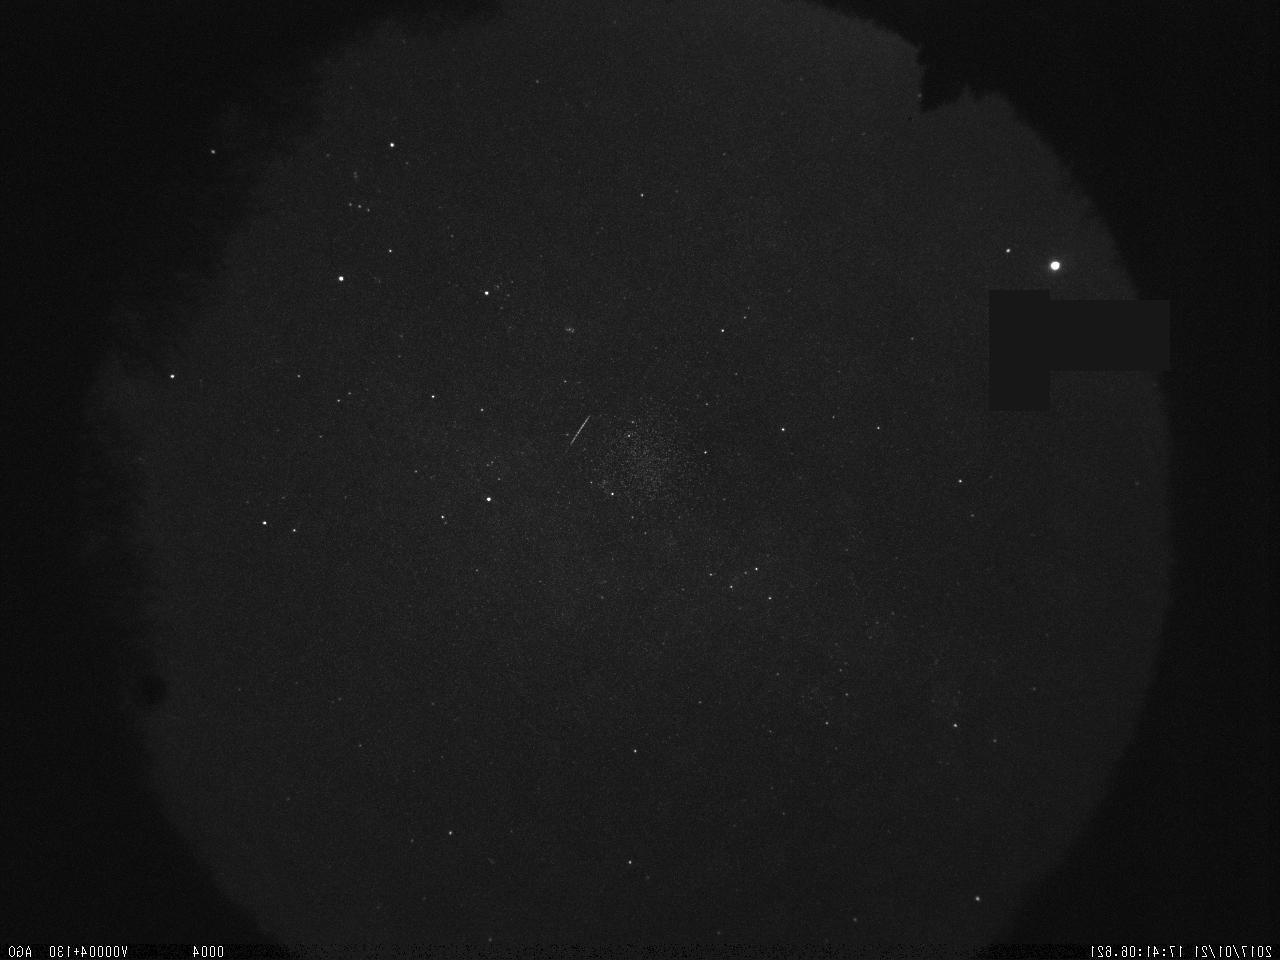meteor: (563, 401, 597, 453)
